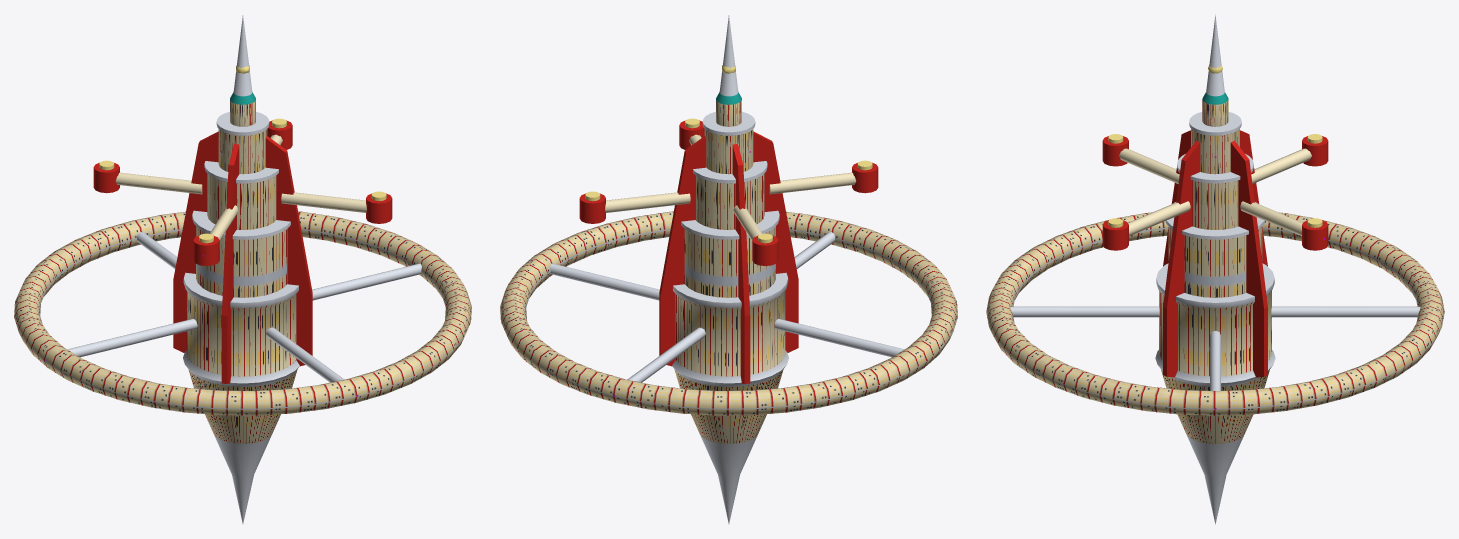
Rendered from guard_station.obj.
3 views of the same model, side by side, from view 1: azimuth 30°, elevation 25°; view 2: azimuth 150°, elevation 25°; view 3: azimuth 270°, elevation 25° (orthographic).
Visible parts, largest first — view 1: tower, ring, spoke, buttress135, buttress315, arm, cradle, buttress225, cradle_light; view 2: tower, ring, spoke, buttress45, buttress225, arm, cradle, buttress315, cradle_light; view 3: tower, ring, spoke, buttress45, buttress135, arm, cradle, cradle_light.
Part boxes in pixels (x1,y1,x2,y2): tower: (183, 15, 299, 523); ring: (14, 211, 471, 415); spoke: (67, 232, 421, 382); buttress135: (265, 136, 312, 366); buttress315: (173, 131, 218, 352); arm: (115, 134, 366, 240); cradle: (93, 120, 392, 265); buttress225: (221, 143, 239, 383); cradle_light: (99, 118, 386, 243); tower: (672, 15, 788, 523); ring: (500, 211, 957, 415); spoke: (550, 232, 904, 382); buttress45: (659, 136, 706, 366); buttress225: (753, 131, 798, 352); arm: (605, 134, 856, 240); cradle: (579, 120, 878, 265); buttress315: (732, 143, 750, 383); cradle_light: (585, 118, 872, 243); tower: (1155, 14, 1275, 524); ring: (986, 212, 1444, 415); spoke: (1010, 306, 1420, 390); buttress45: (1230, 140, 1267, 377); buttress135: (1163, 140, 1200, 377); arm: (1119, 148, 1311, 236); cradle: (1102, 136, 1328, 250); cradle_light: (1108, 134, 1322, 227).
Bounding box in the file's own units: 244 × 300 × 244.
7 materials, 1 textured.
